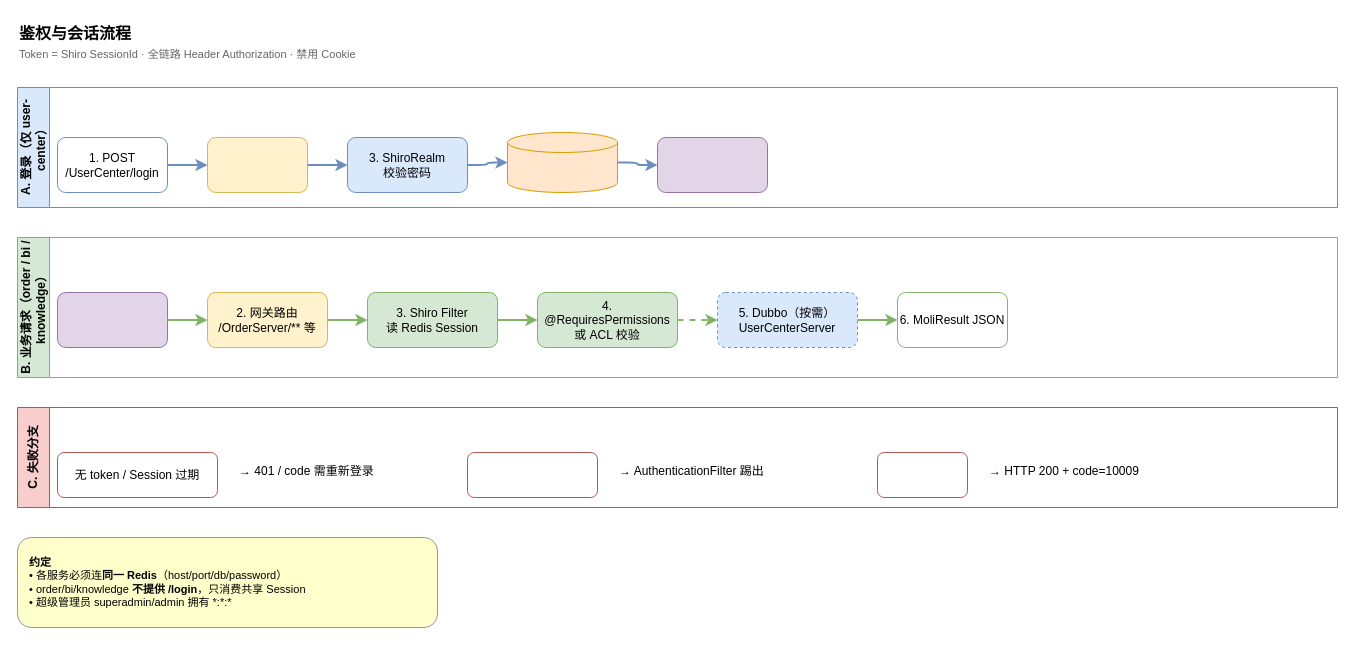
Image size: 1355x645. Some labels were removed from this diagram. Here are the shapes that lost their labels. From the top down, the centre of each, then its label:
At (257,164): "2. 网关 StripPrefix".
At (562,162): "4. 写 Redis shiro:session:*".
At (712,164): "5. 返回 token (sessionId)".
At (112,320): "1. API 请求 Authorization".
At (532,475): "账号停用/删除".
At (922,475): "无权限".
